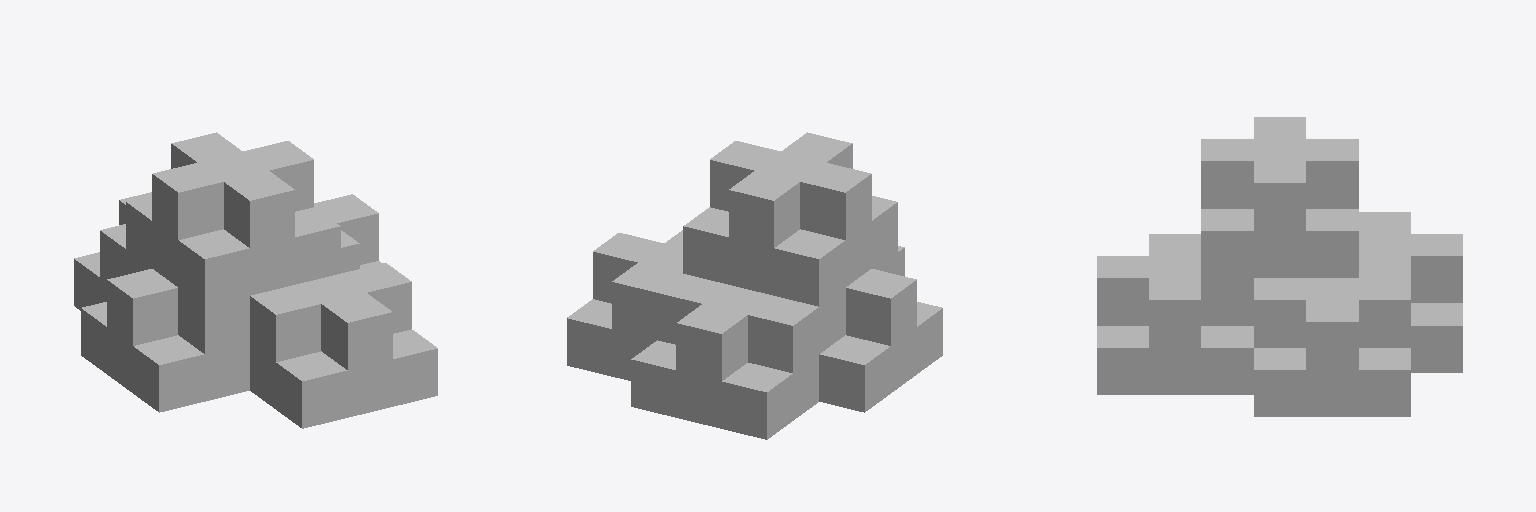
File: Stone3.obj
The picture shows the model from 3 angles: view 1: azimuth 30°, elevation 25°; view 2: azimuth 150°, elevation 25°; view 3: azimuth 270°, elevation 25°; orthographic projection.
Visible parts, largest first — view 1: object 1; view 2: object 1; view 3: object 1.
Boxes of the visible parts, <box> form: object 1: <box>74,132,437,428</box>; object 1: <box>567,132,942,439</box>; object 1: <box>1097,117,1462,416</box>.
Size of the model in its own units: 0.6 by 0.4 by 0.7.